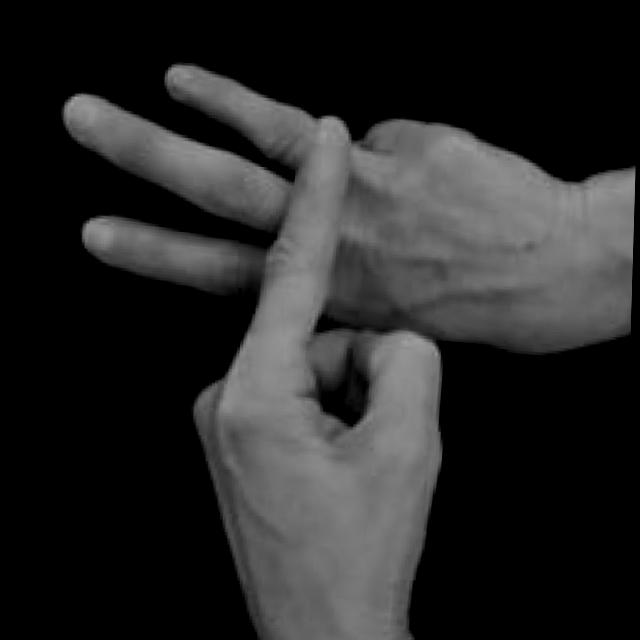E: (22, 48, 535, 607)
